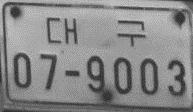-: (62, 66, 81, 81)
0: (138, 57, 159, 96), (12, 50, 33, 88), (112, 56, 133, 94)
3: (166, 59, 187, 97)
7: (39, 53, 57, 90)
9: (85, 55, 107, 94)
대구_D: (46, 15, 146, 49)
